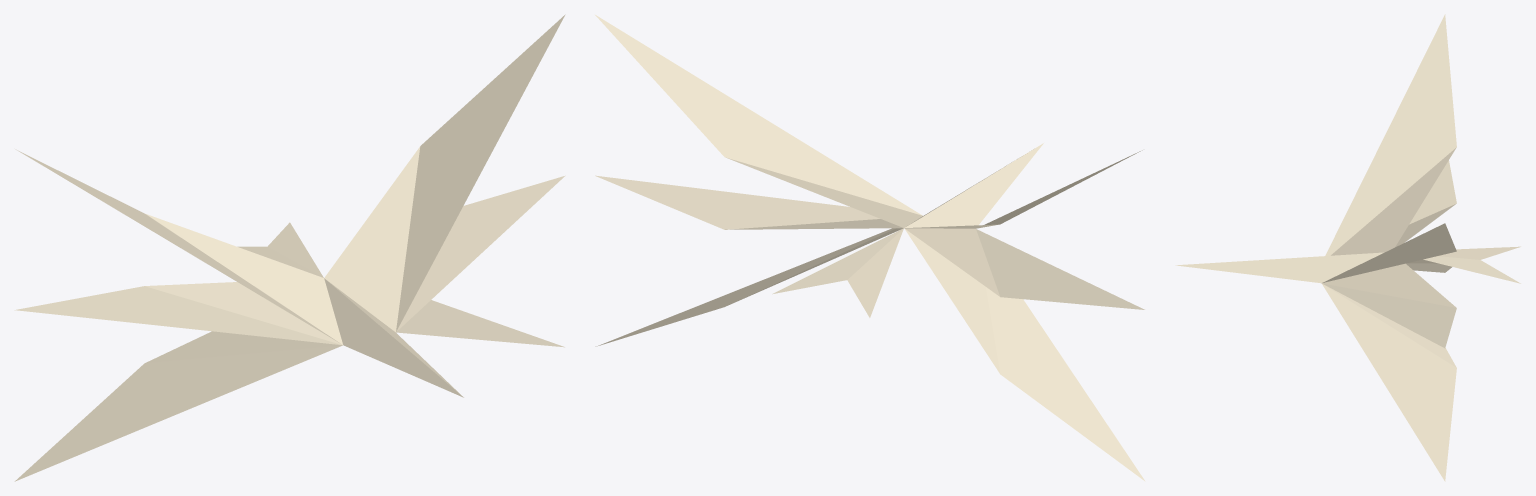
Rendered from birds.glb.
The picture shows the model from 3 angles, left to right: view 1: azimuth 30°, elevation 25°; view 2: azimuth 150°, elevation 25°; view 3: azimuth 270°, elevation 25°; orthographic projection. The views are drawn at different scales.
Visible parts, largest first — view 1: bird_up, bird_down, bird_mid; view 2: bird_down, bird_mid, bird_up; view 3: bird_up, bird_down, bird_mid.
Boxes of the visible parts, <box> form: bird_up: <box>15,14,565,344</box>; bird_down: <box>14,222,564,481</box>; bird_mid: <box>14,175,565,345</box>; bird_down: <box>595,143,1145,481</box>; bird_mid: <box>595,175,1144,309</box>; bird_up: <box>595,15,1142,228</box>; bird_up: <box>1322,14,1456,282</box>; bird_down: <box>1175,246,1520,481</box>; bird_mid: <box>1322,160,1456,348</box>.
Size of the model in its own units: 1.68 by 0.97 by 1.18.
